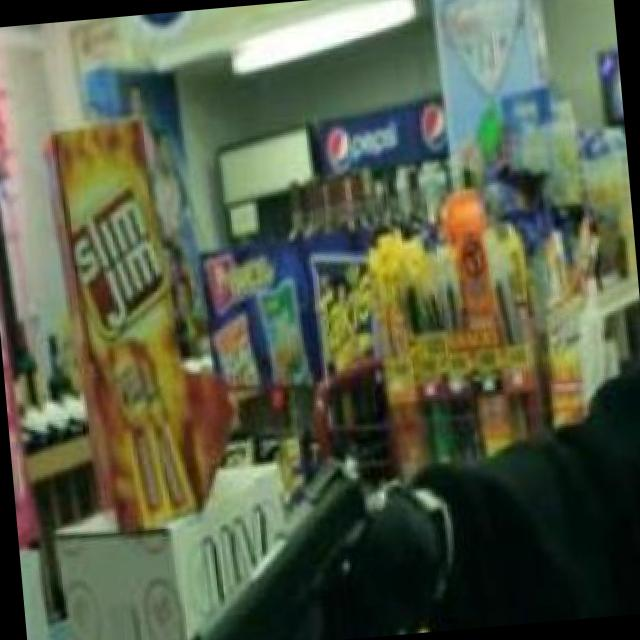Guns: (144, 443, 445, 640)
